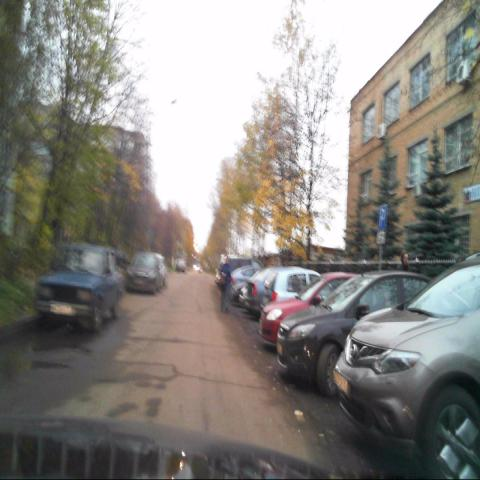6_4: (378, 203, 387, 230)
